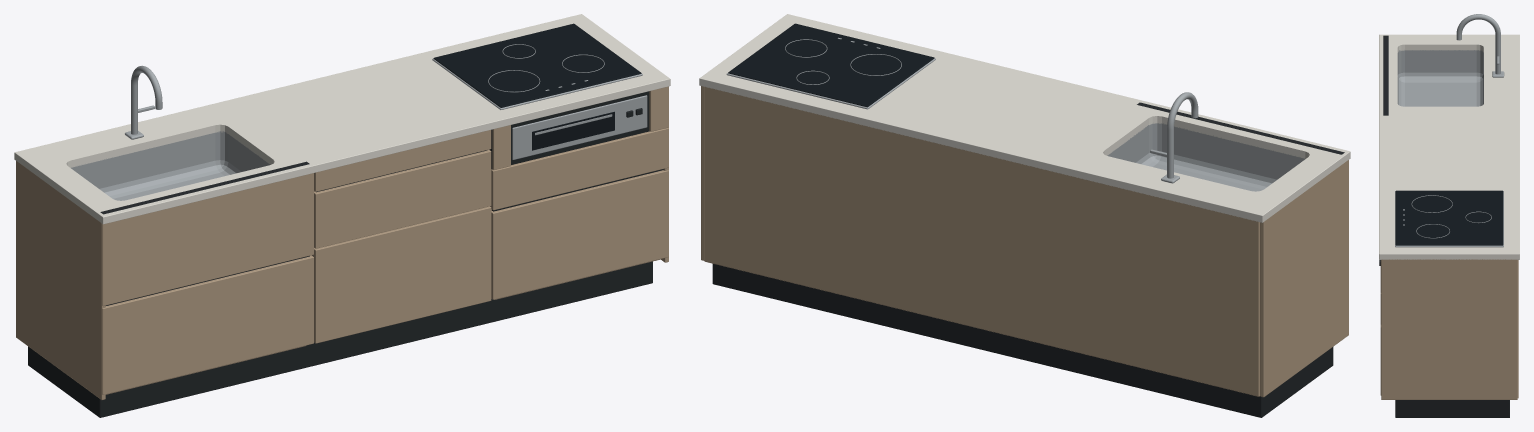
Rendered from original-kitchen-i2400.glb.
The picture shows the model from 3 angles, left to right: view 1: azimuth 30°, elevation 25°; view 2: azimuth 150°, elevation 25°; view 3: azimuth 270°, elevation 25°; orthographic projection. The views are drawn at different scales.
Visible parts, largest first — view 1: original-kitchen-i2400; view 2: original-kitchen-i2400; view 3: original-kitchen-i2400.
Part boxes in pixels (bbox=[...]): original-kitchen-i2400: bbox=[14, 14, 670, 417]; original-kitchen-i2400: bbox=[699, 14, 1350, 417]; original-kitchen-i2400: bbox=[1379, 14, 1519, 417].
Bounding box in the file's own units: 2.4 × 1.16 × 0.65.
